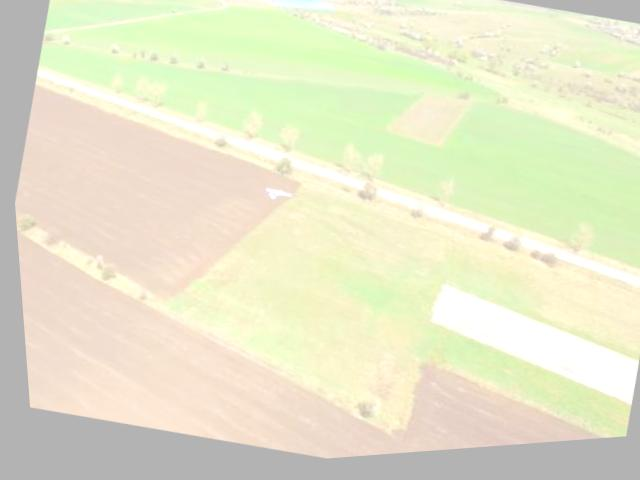uav: (251, 180, 297, 219)
